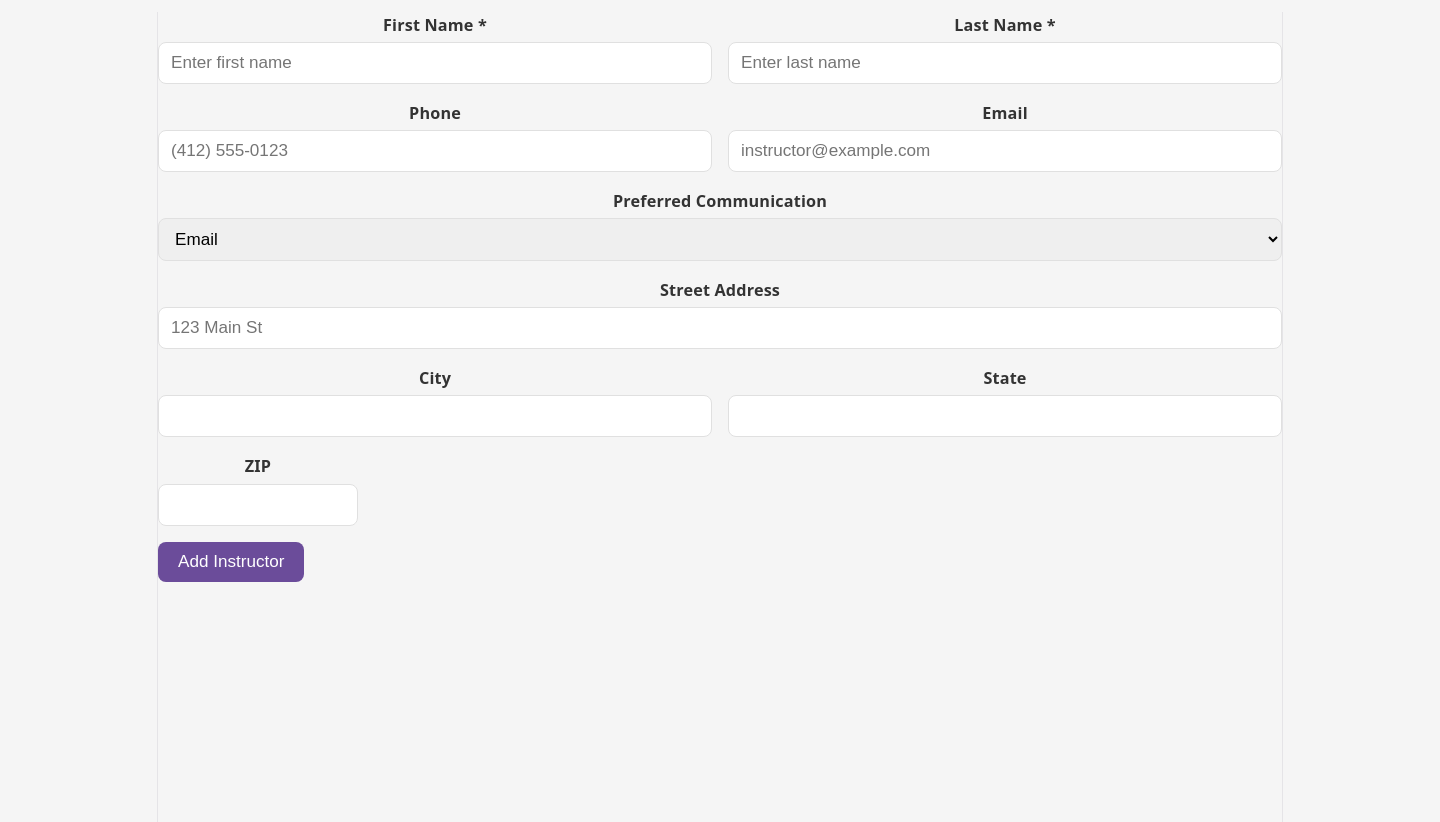
it: InstructorForm — format validation › shows error when email format is invalid
Type "Jane" into the field with placeholder "Enter first name" at (435, 63), box x1=158 y1=42 x2=712 y2=84
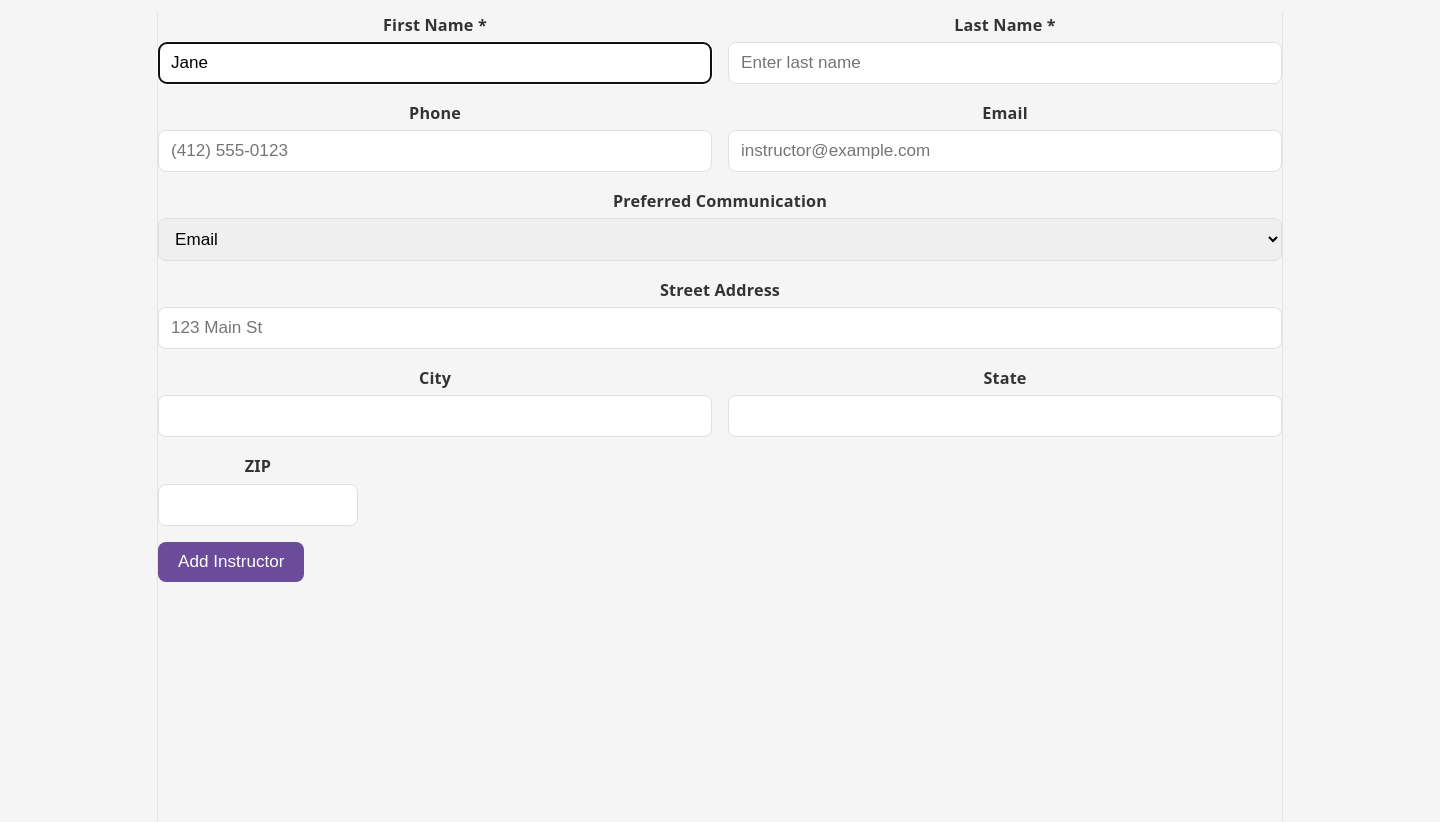
Type "Smith" into the field with placeholder "Enter last name" at (1005, 63), box x1=728 y1=42 x2=1282 y2=84
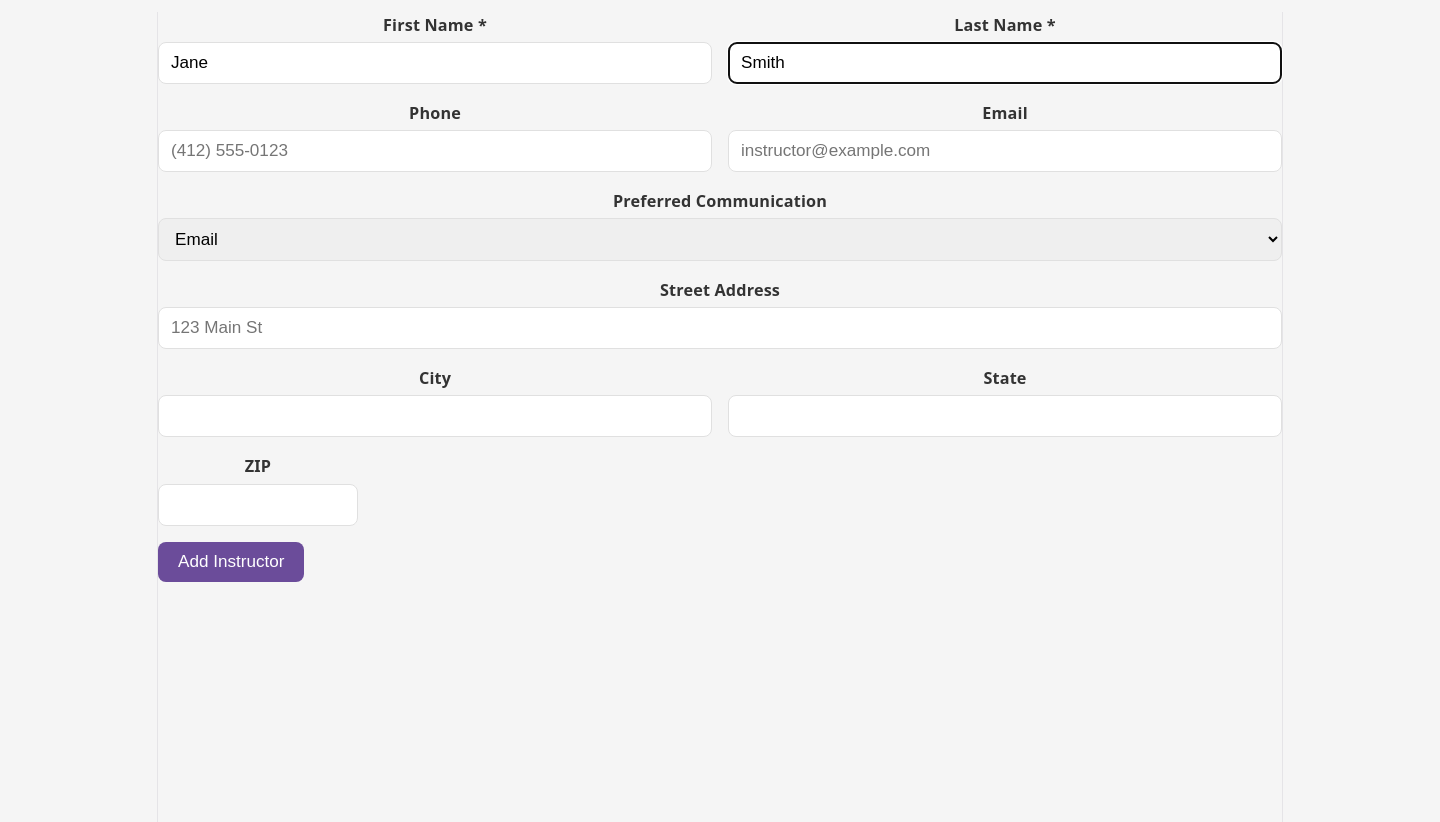
Type "notanemail" into the field with placeholder "instructor@example.com" at (1005, 151), box x1=728 y1=130 x2=1282 y2=172
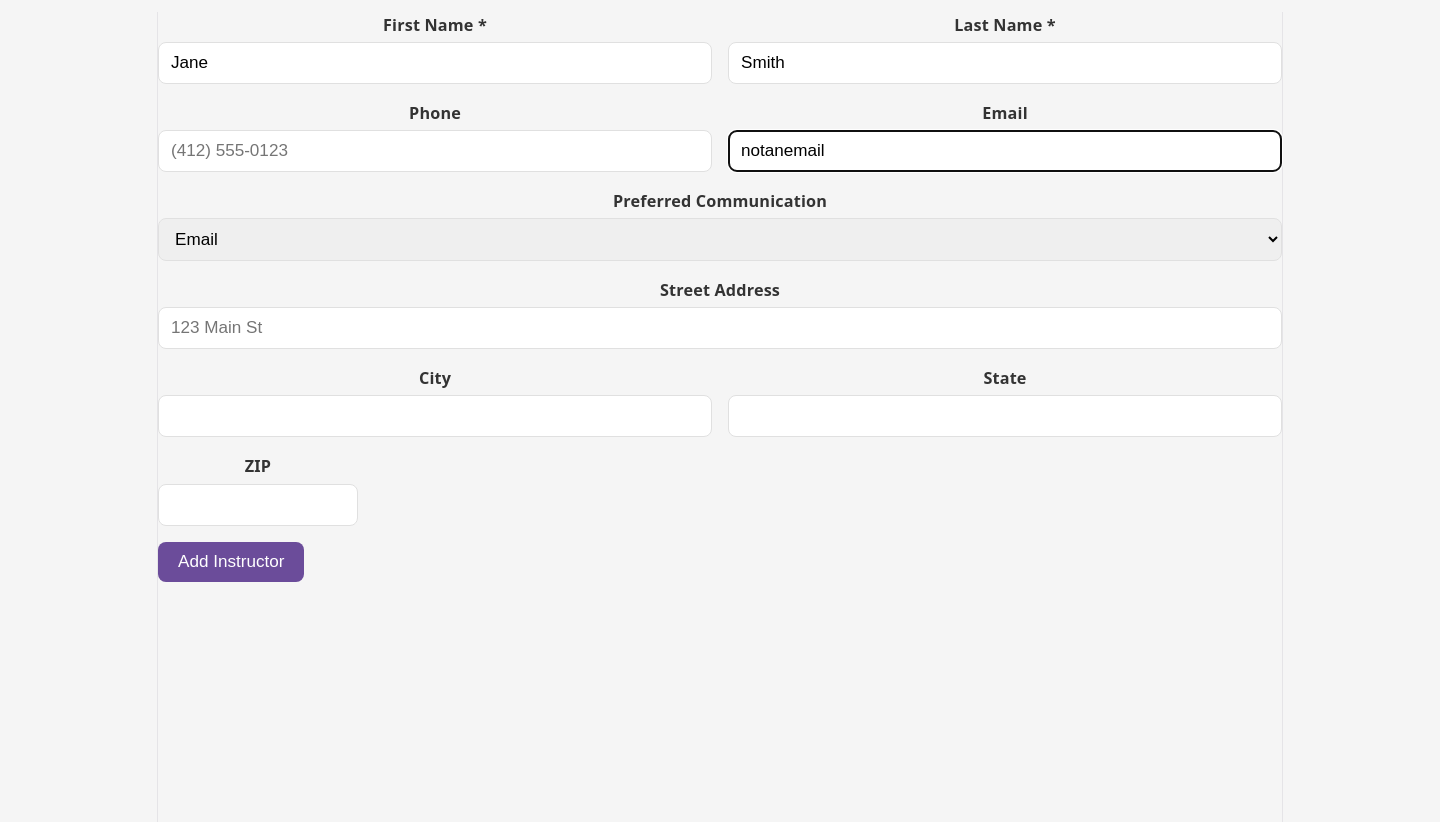
Submit the form from the button "Add Instructor", box x1=158 y1=542 x2=304 y2=582
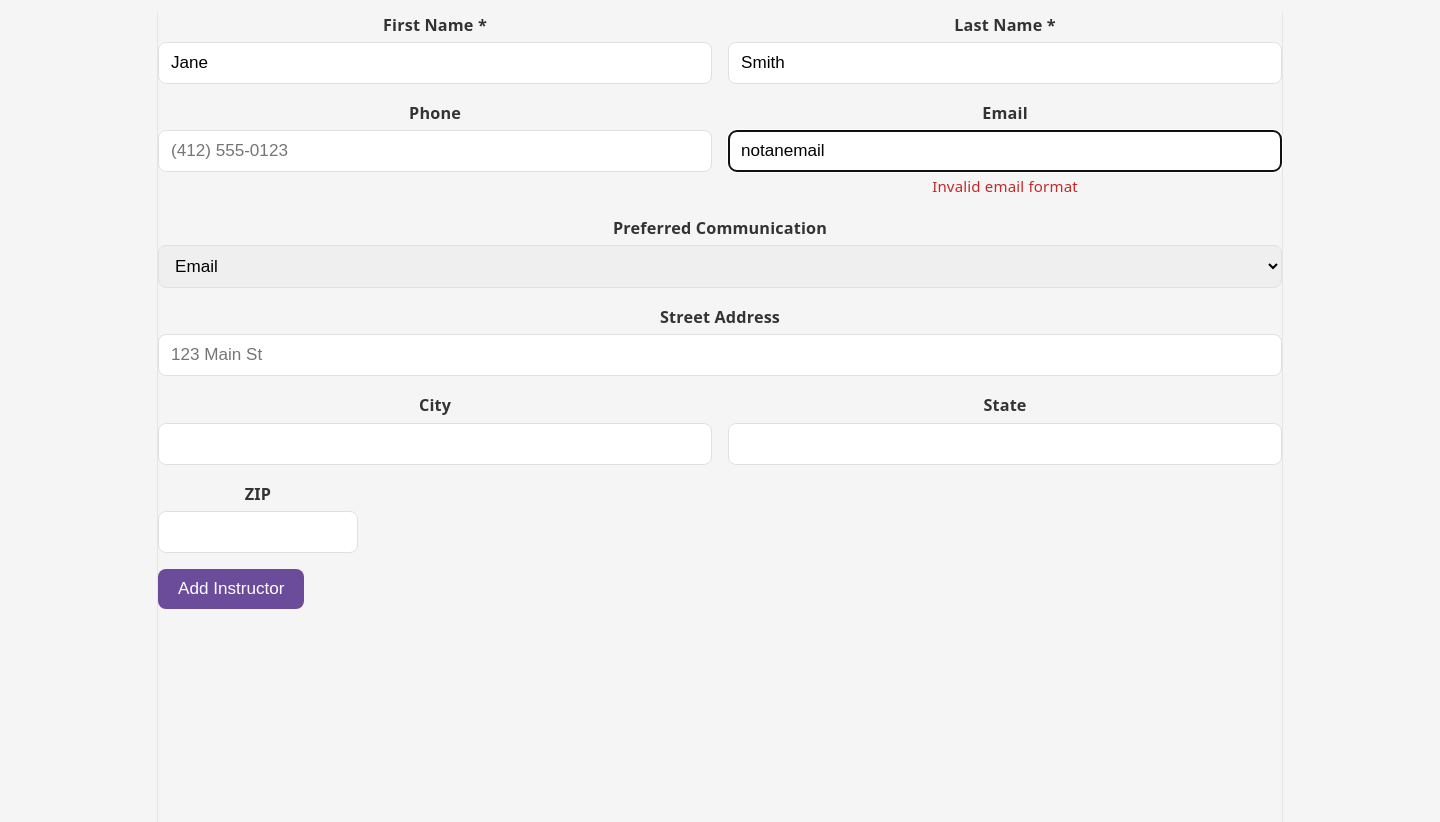
Check: the text "Invalid email format" is shown, box x1=932 y1=176 x2=1078 y2=196
